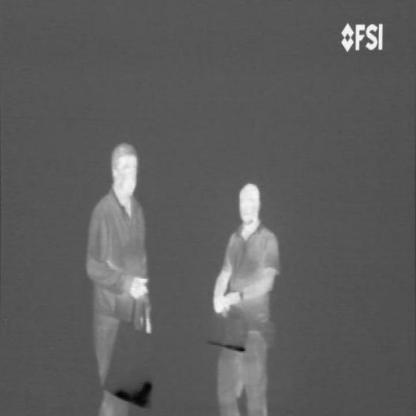weapon: (112, 371, 153, 410)
